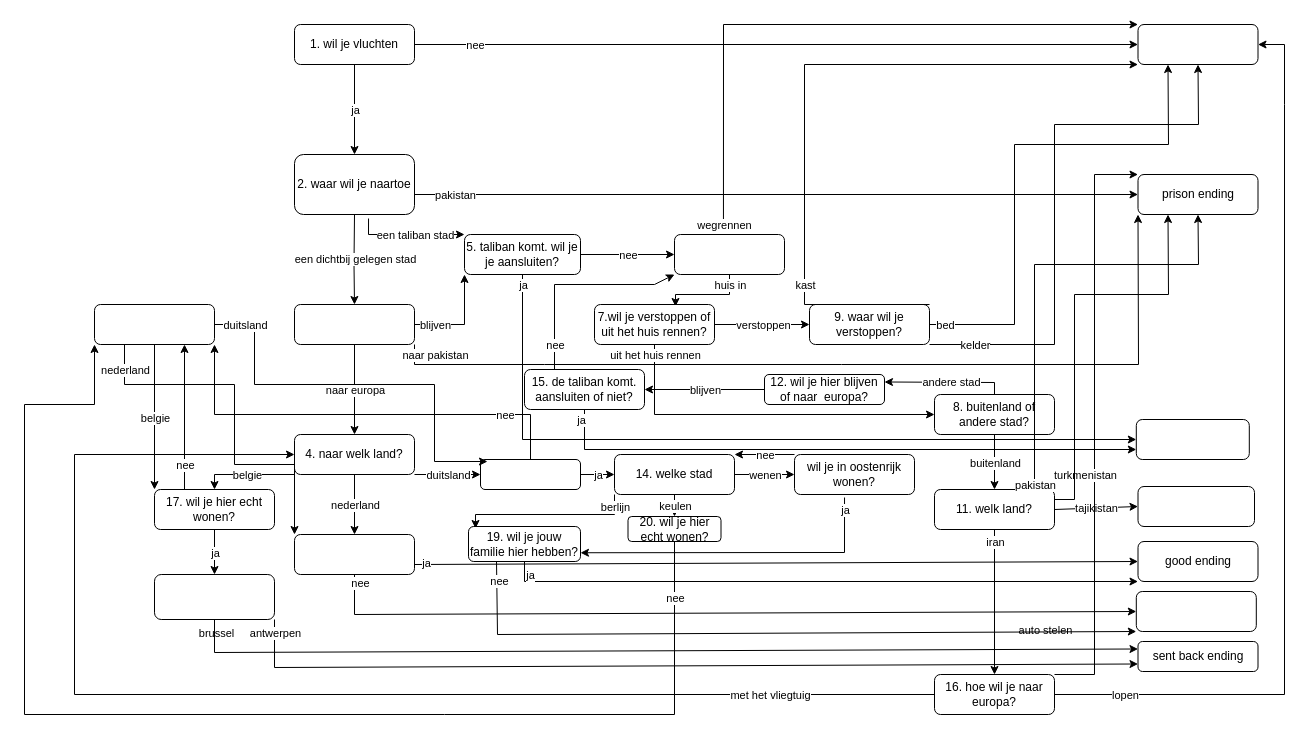
Some shapes in this 1310 by 740 pixel diagram are drawn without their labels. Each missing label, with the centre of its shape:
10. wil jij je familie hier hebben?: the point at 354,554
13. welke stad?: the point at 214,597
18. wil je hier echt wonen?: the point at 530,474
21. waar wil je dan wonen?: the point at 154,324
3. het wordt onveilig. wat ga je nu doen: the point at 354,324
6. ren je weg of een huis in?: the point at 729,254
bad ending: the point at 1192,439
dead ending: the point at 1197,44
devils ending: the point at 1195,611
tajikistan ending: the point at 1195,506
